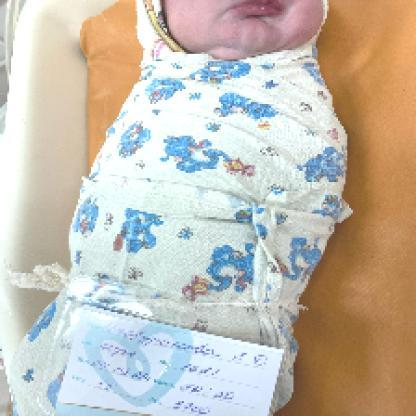child: (10, 1, 352, 415)
